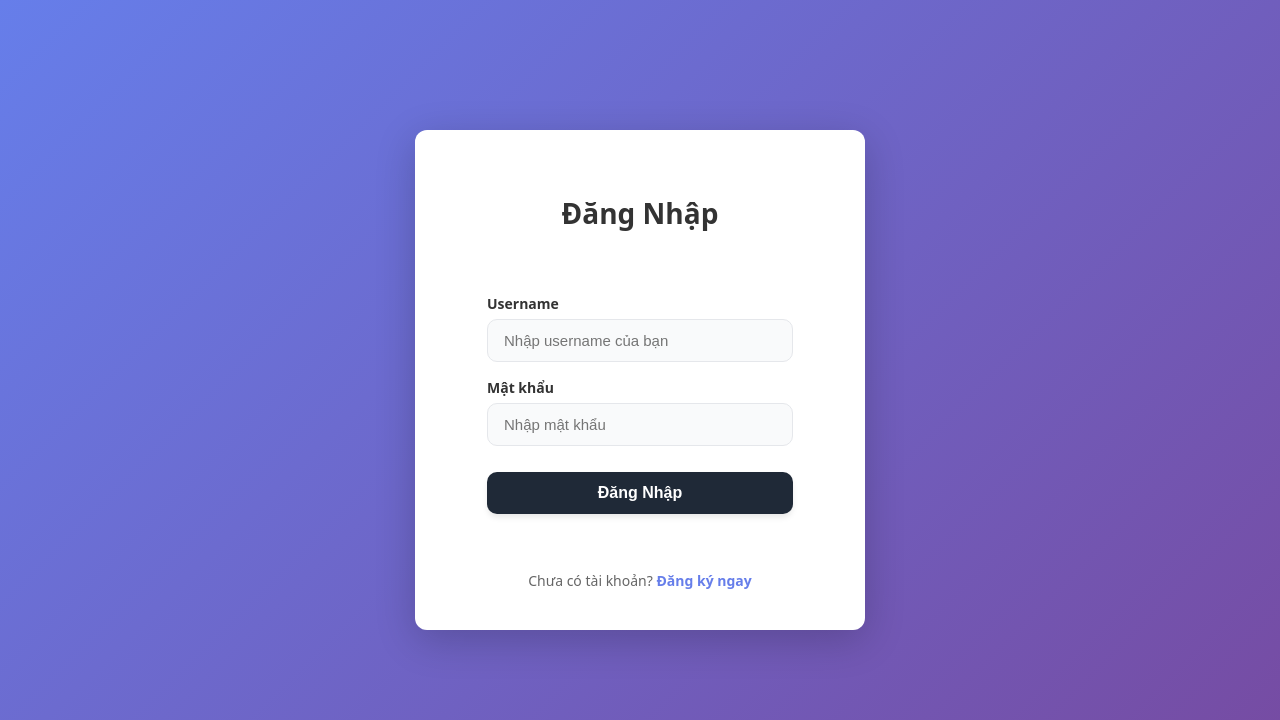
Product CRUD Operations Tests › Create Product › should show validation errors when creating product with empty required fields
Type "admin" into the field with test id "email-input".
click(640, 341); type("admin")  # box x1=487 y1=319 x2=793 y2=362
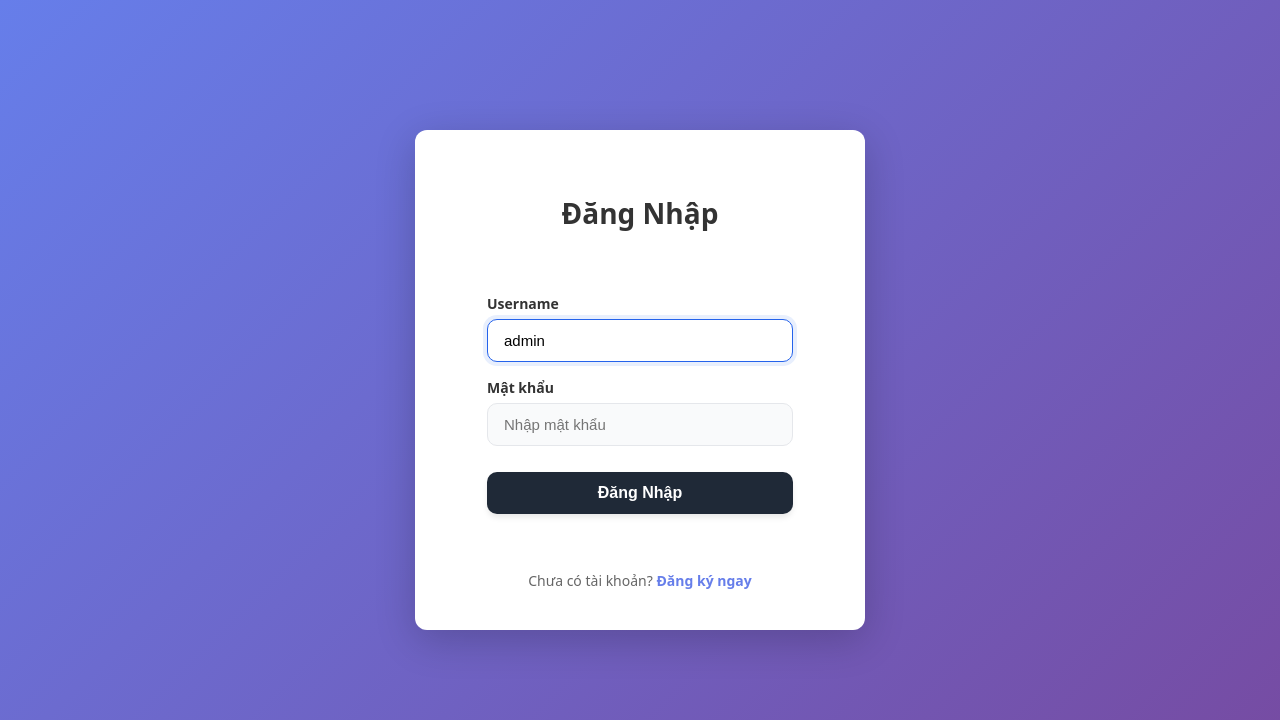
Type "Admin123" into the password field with test id "password-input".
click(640, 425); type("Admin123")  # box x1=487 y1=403 x2=793 y2=446
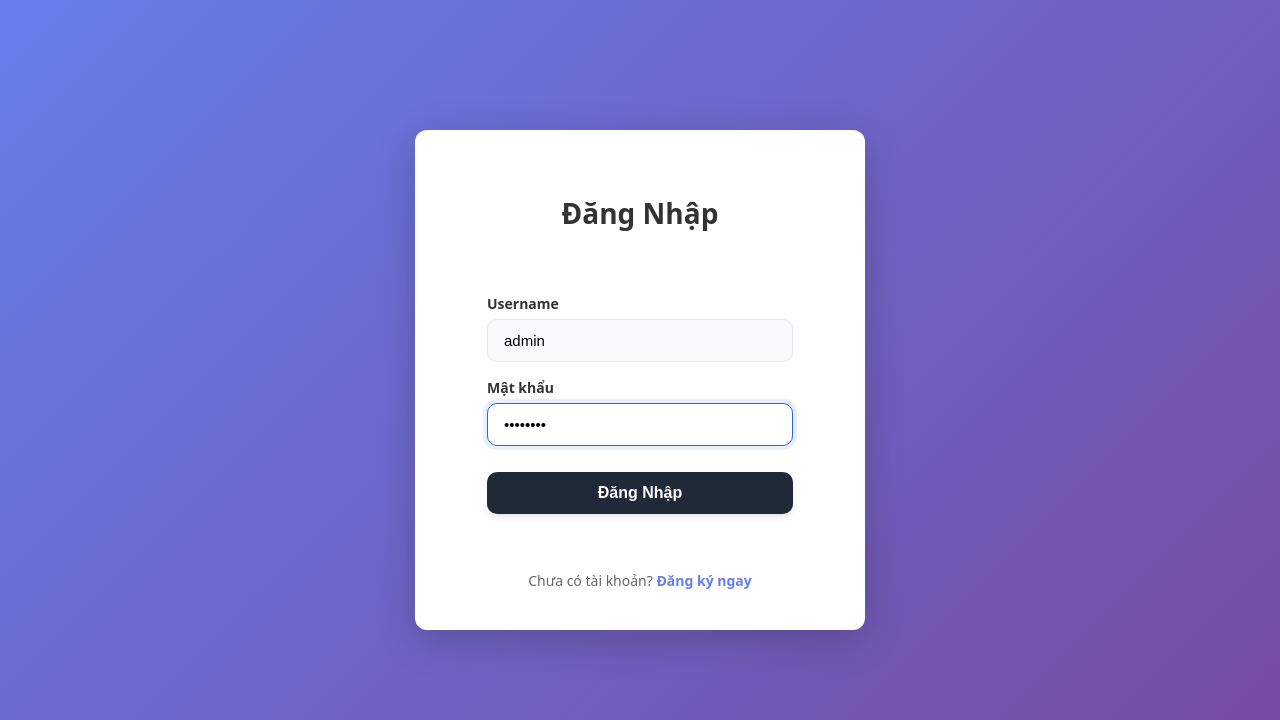
Click the button with test id "submit-button".
click(640, 493)  # box x1=487 y1=472 x2=793 y2=514
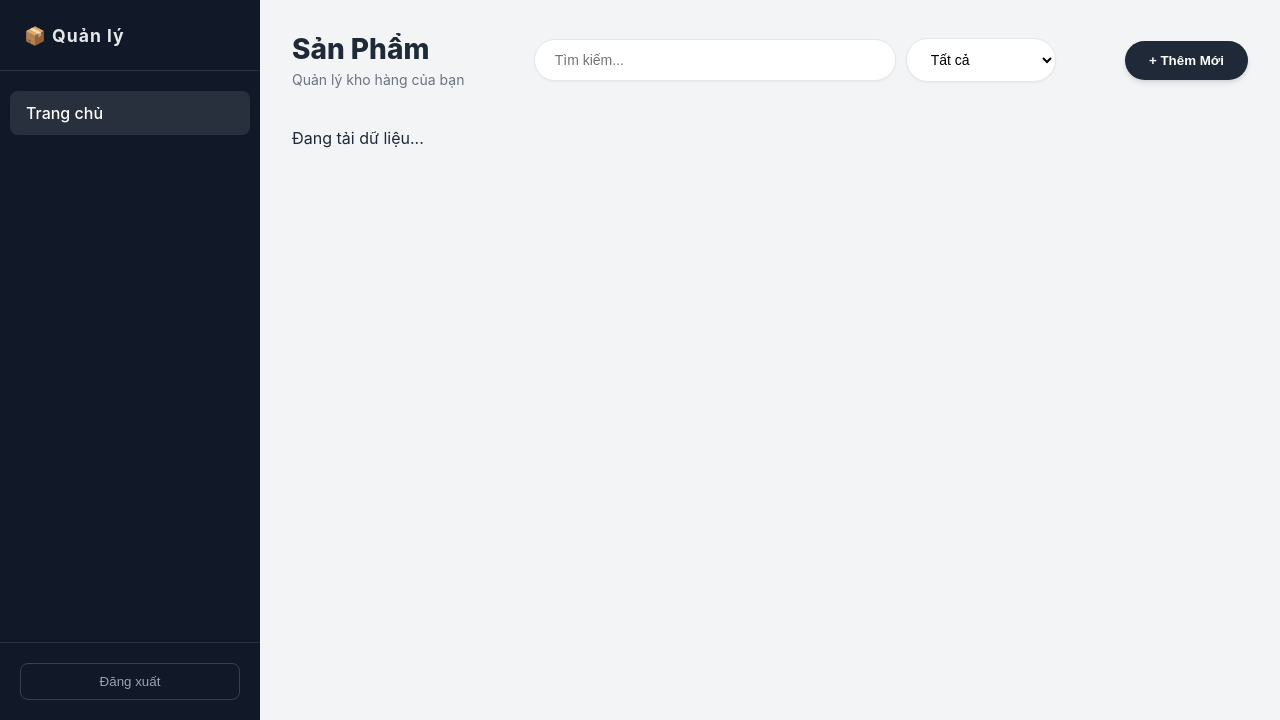
Click the button with class "btn-add".
click(1187, 61)  # box x1=1125 y1=41 x2=1248 y2=80
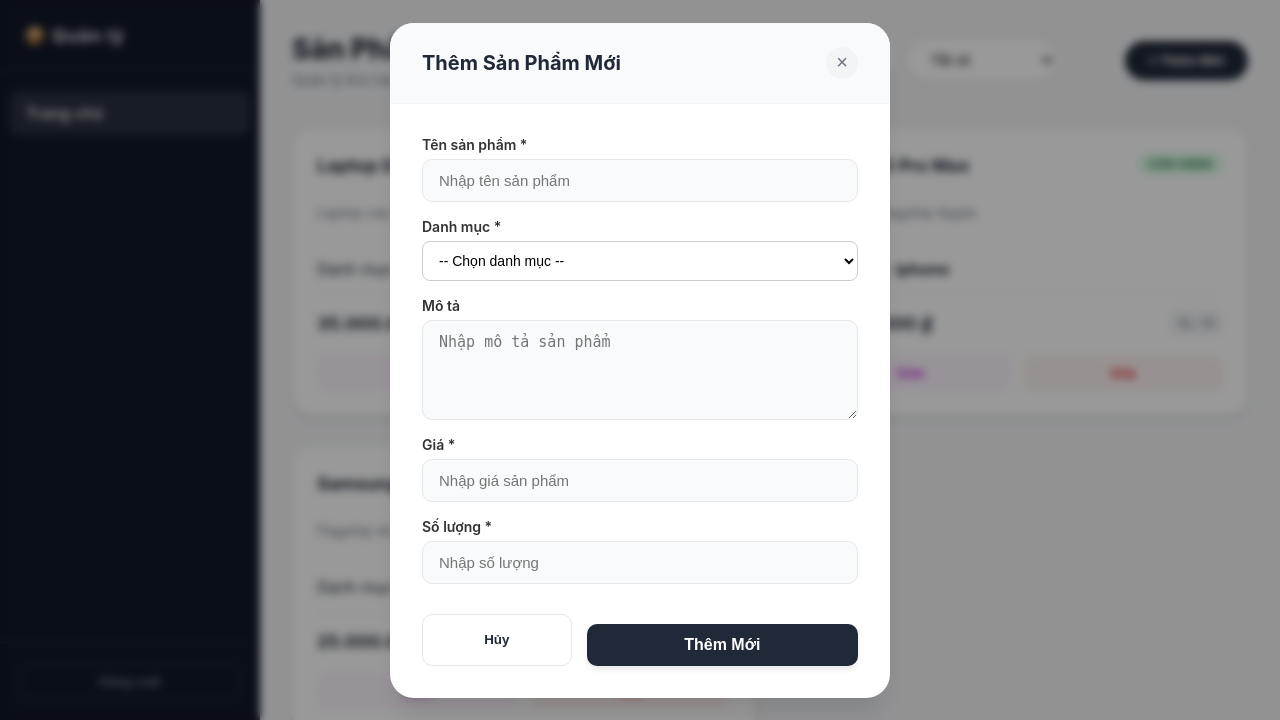
Click the button with test id "submit-button".
click(723, 645)  # box x1=587 y1=624 x2=858 y2=666
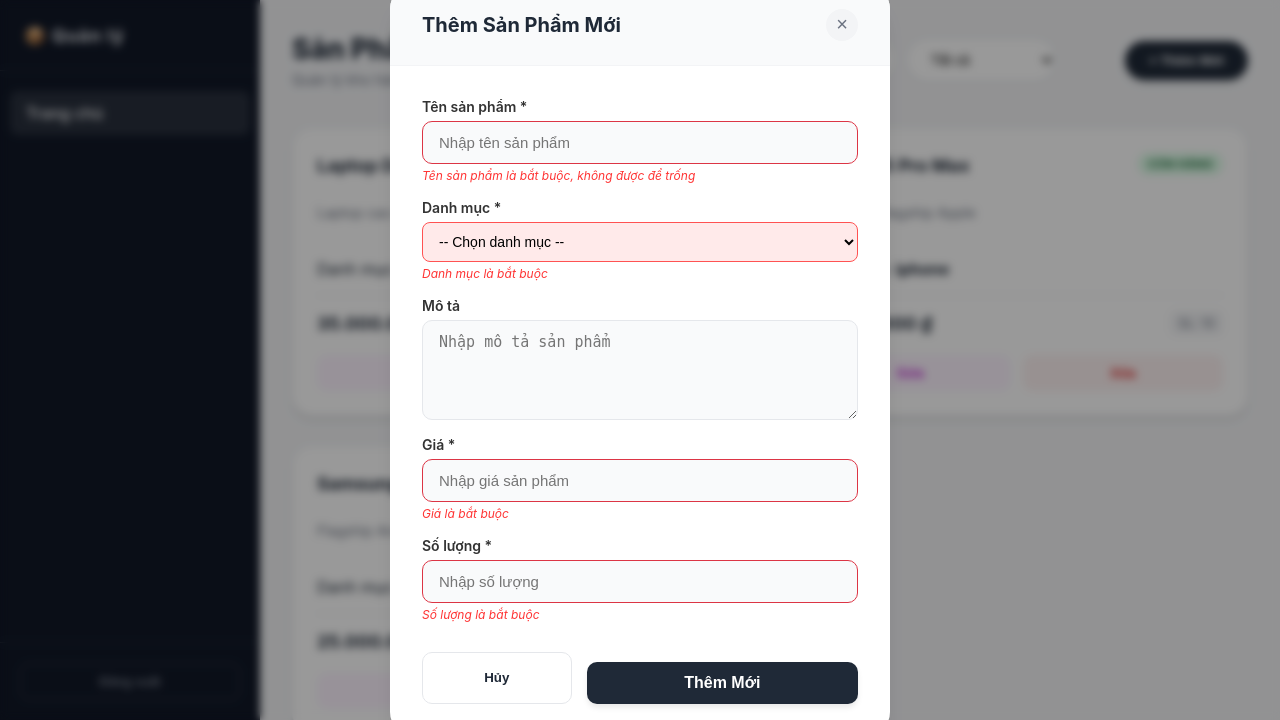
Expected: the text "Tên sản phẩm là bắt buộc, không được để trống" is shown, x1=422 y1=168 x2=695 y2=182
Expected: the text with test id "name-error" shows "Tên sản phẩm là bắt buộc", x1=422 y1=168 x2=695 y2=183
Expected: the text "Danh mục là bắt buộc" is shown, x1=422 y1=266 x2=548 y2=280
